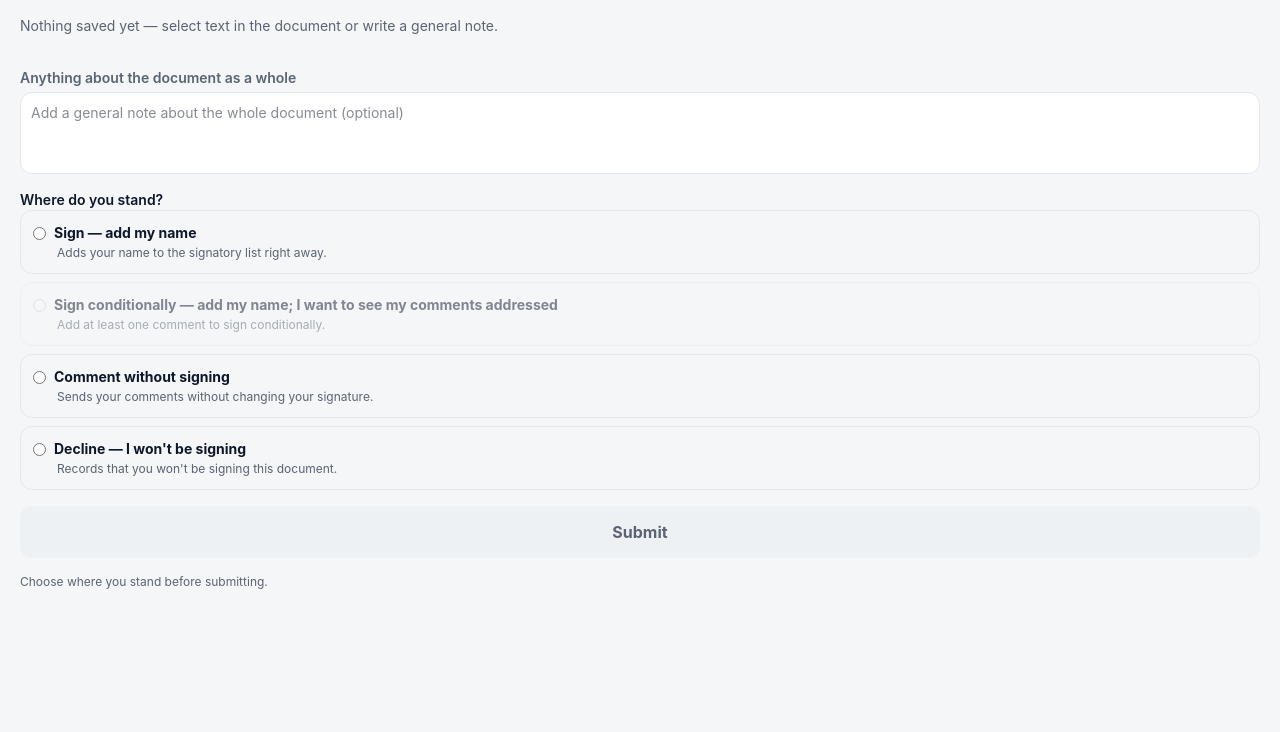
ReviewTray — a refused submission is never swallowed › disables submit with a reason while official capacity is unattested
Click the radio button labelled "Sign — add my name" at (40, 233), box x1=33 y1=226 x2=46 y2=240
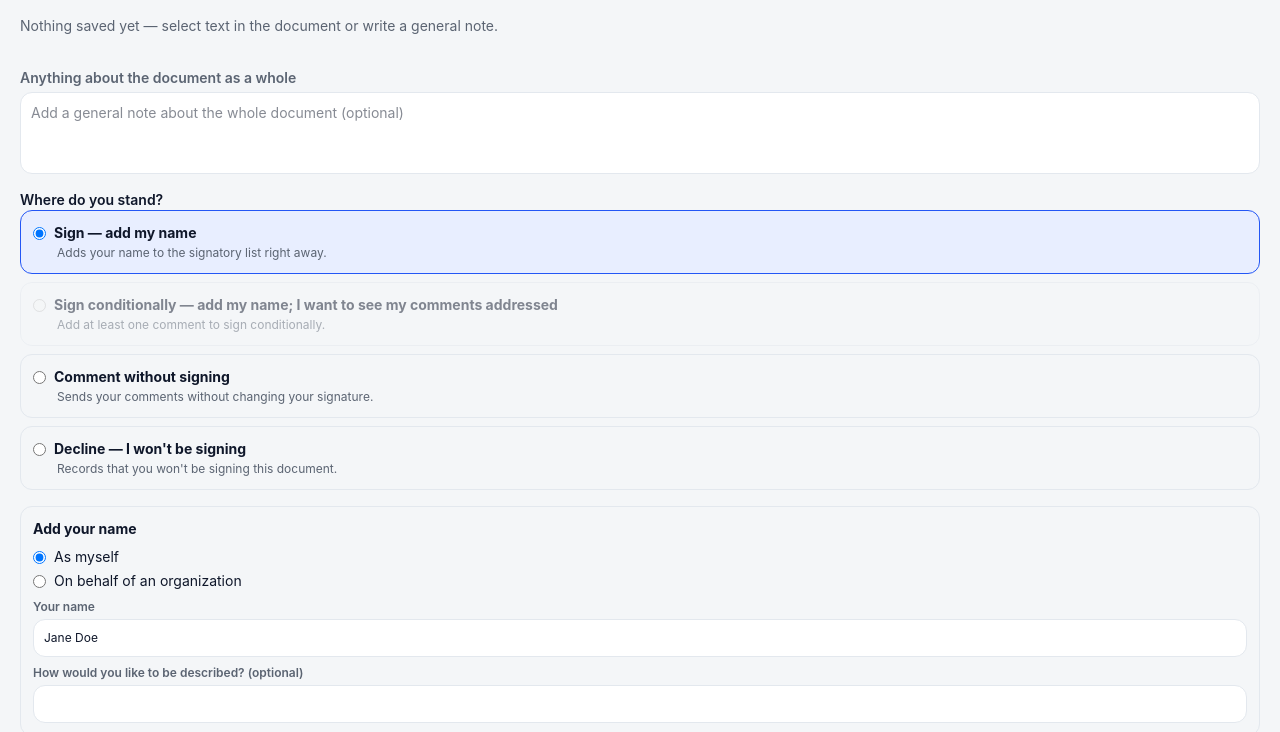
Click the radio button labelled "On behalf of an organization" at (40, 581), box x1=33 y1=574 x2=46 y2=588
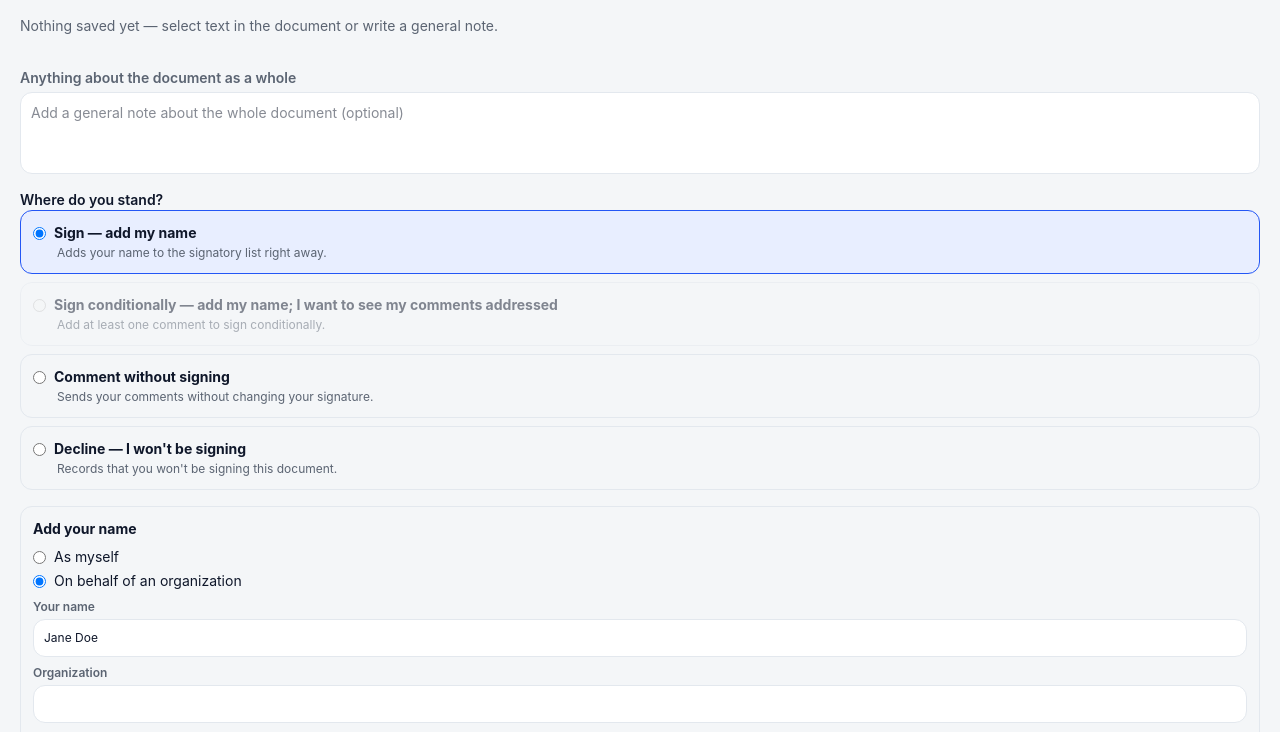
Type "St. Brigid Parish Council" into the field labelled "Organization" at (640, 704), box x1=33 y1=685 x2=1247 y2=723
(page scrolled)
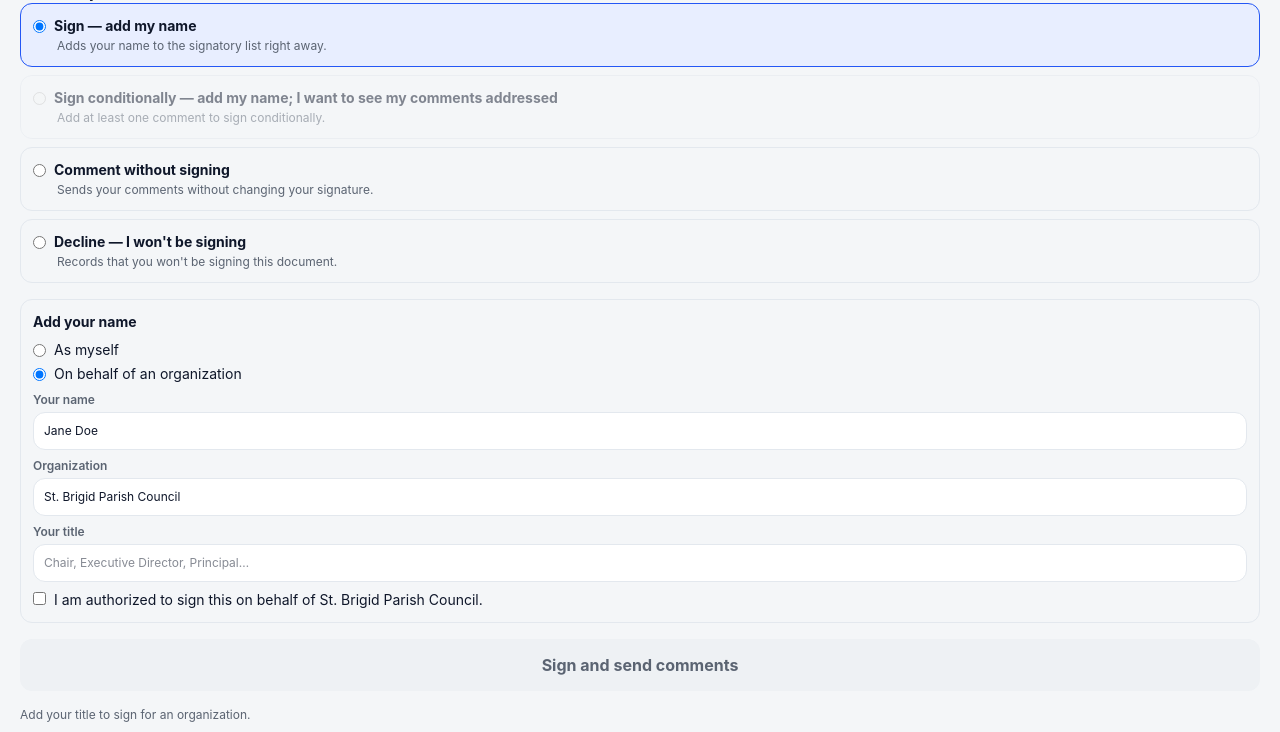
expect the text "Add your title to sign for an organization." is shown: met, box x1=20 y1=707 x2=250 y2=722
Type "Chair" into the field labelled "Your title" at (640, 563), box x1=33 y1=544 x2=1247 y2=582
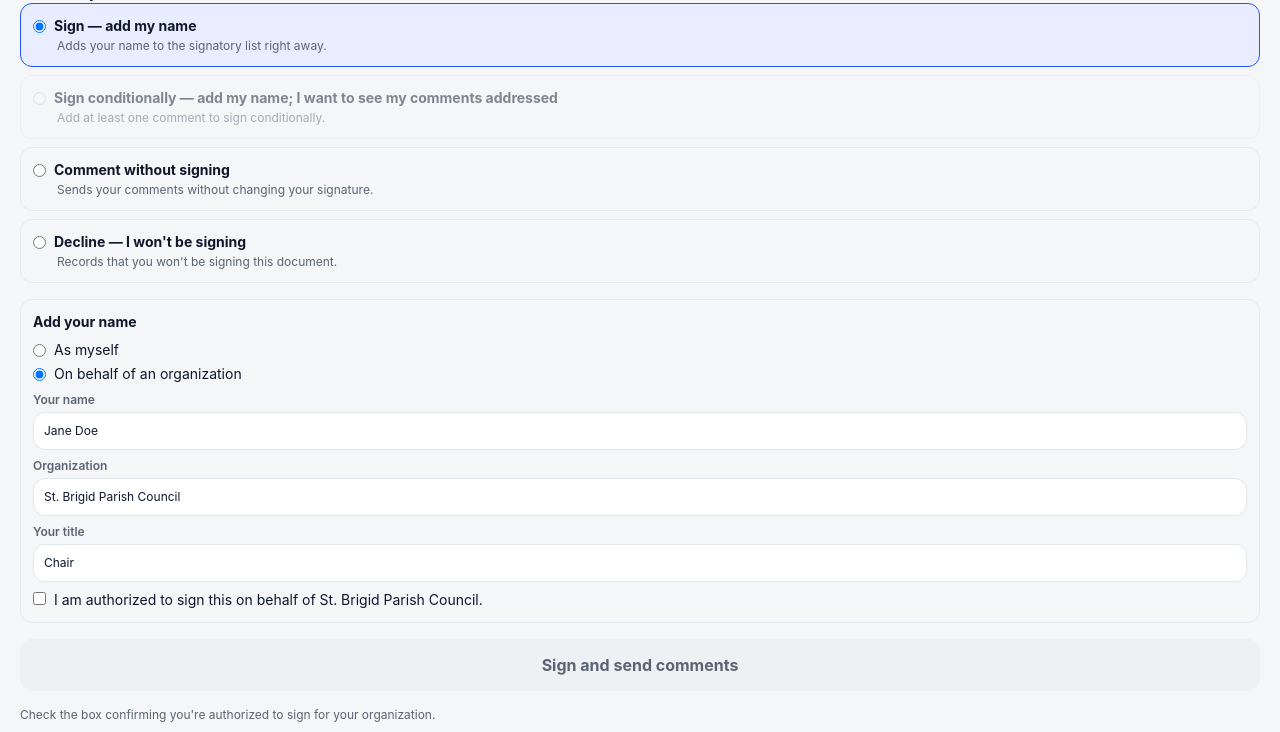
expect the button "Sign and send comments" is disabled: met, box x1=20 y1=639 x2=1260 y2=691
expect the text "Check the box confirming you're authorized to sign for your organization." is shown: met, box x1=20 y1=707 x2=435 y2=722
Click the text "I am authorized to sign this on behalf of St. Brigid Parish Council." at (268, 600), box x1=54 y1=590 x2=483 y2=610
(page scrolled)
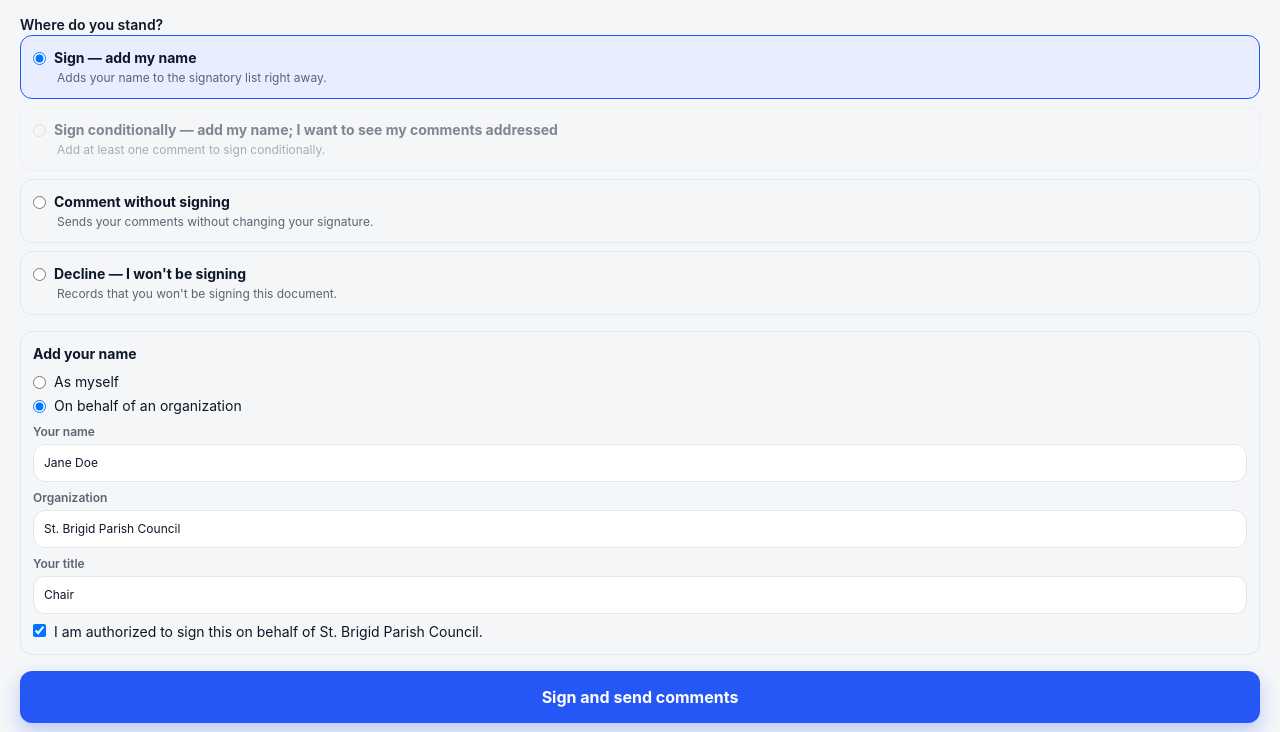
expect the button "Sign and send comments" is enabled: met, box x1=20 y1=671 x2=1260 y2=723
